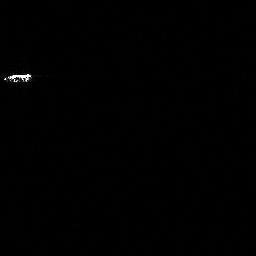ship: (1, 71, 37, 84)
